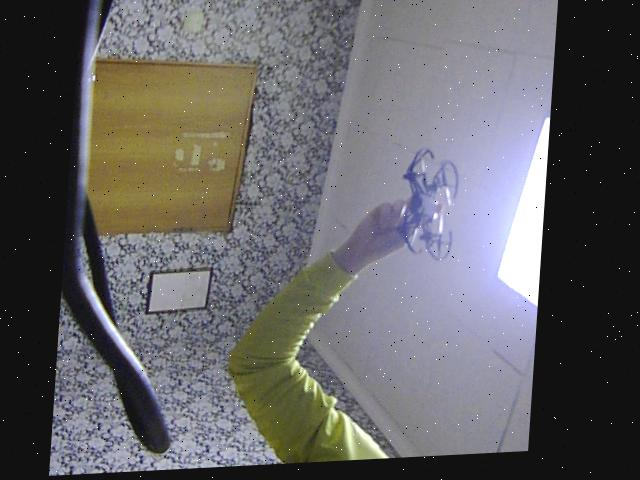drone: (396, 150, 480, 272)
